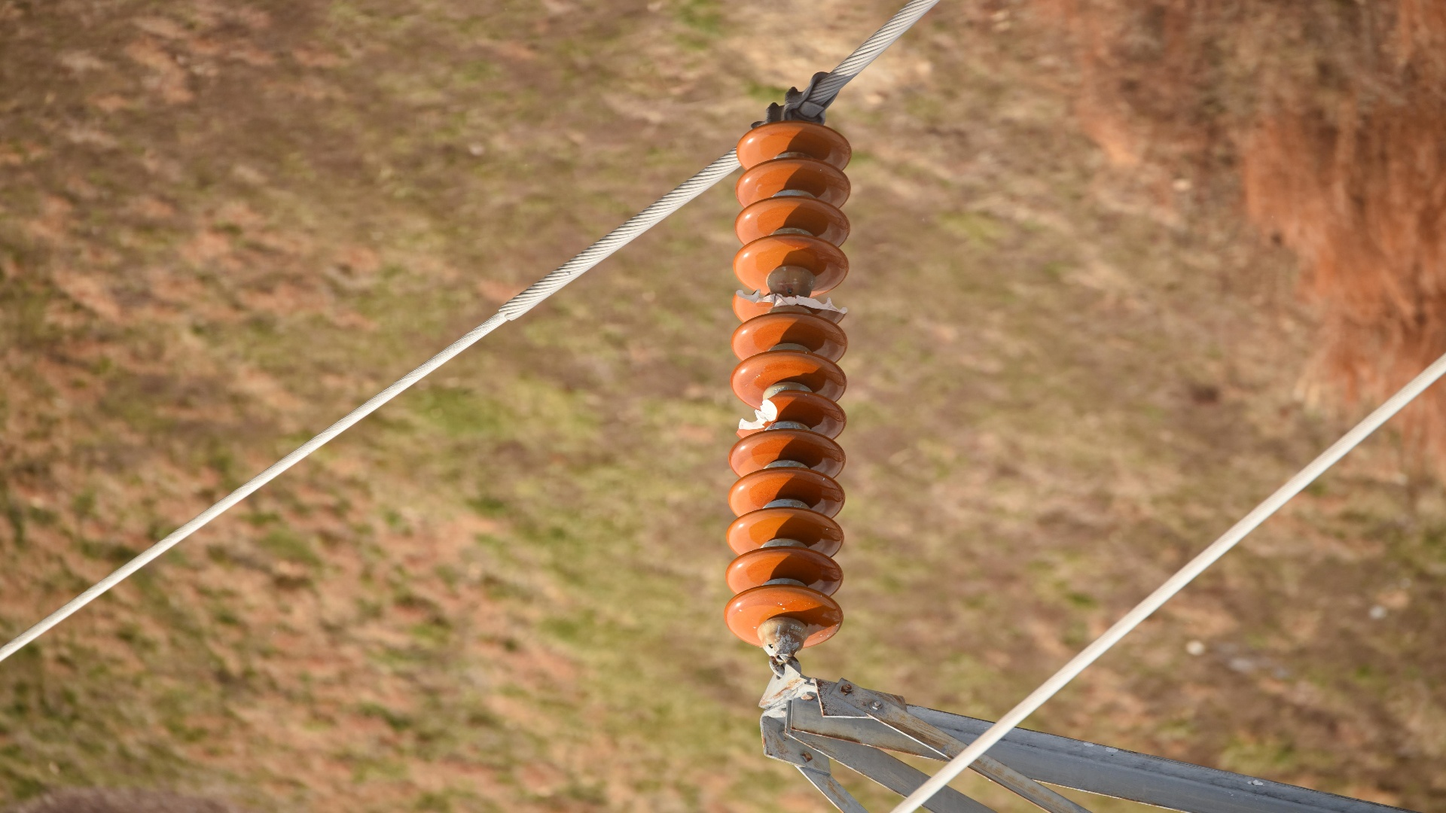insulator: (718, 118, 856, 659)
insulator_breakage: (732, 286, 852, 318), (734, 395, 780, 436)
